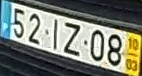0: (90, 29, 105, 62)
2: (27, 12, 41, 45)
5: (12, 7, 24, 38)
8: (107, 33, 123, 67)
I: (52, 18, 59, 51)
Z: (62, 20, 81, 57)
